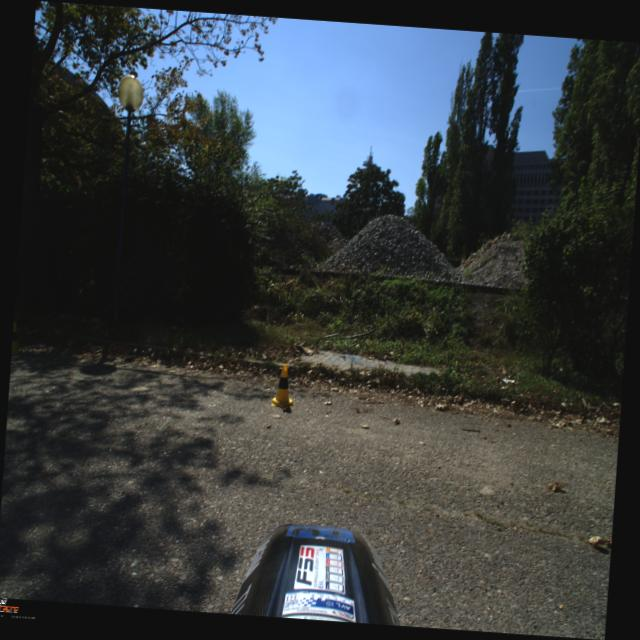yellow_cone: (271, 363, 295, 408)
